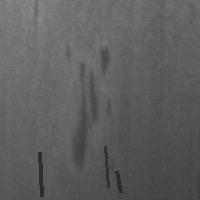inclusion: (68, 43, 117, 173), (96, 40, 114, 80), (103, 144, 110, 189), (37, 150, 43, 198), (31, 1, 42, 25), (114, 169, 122, 194)
